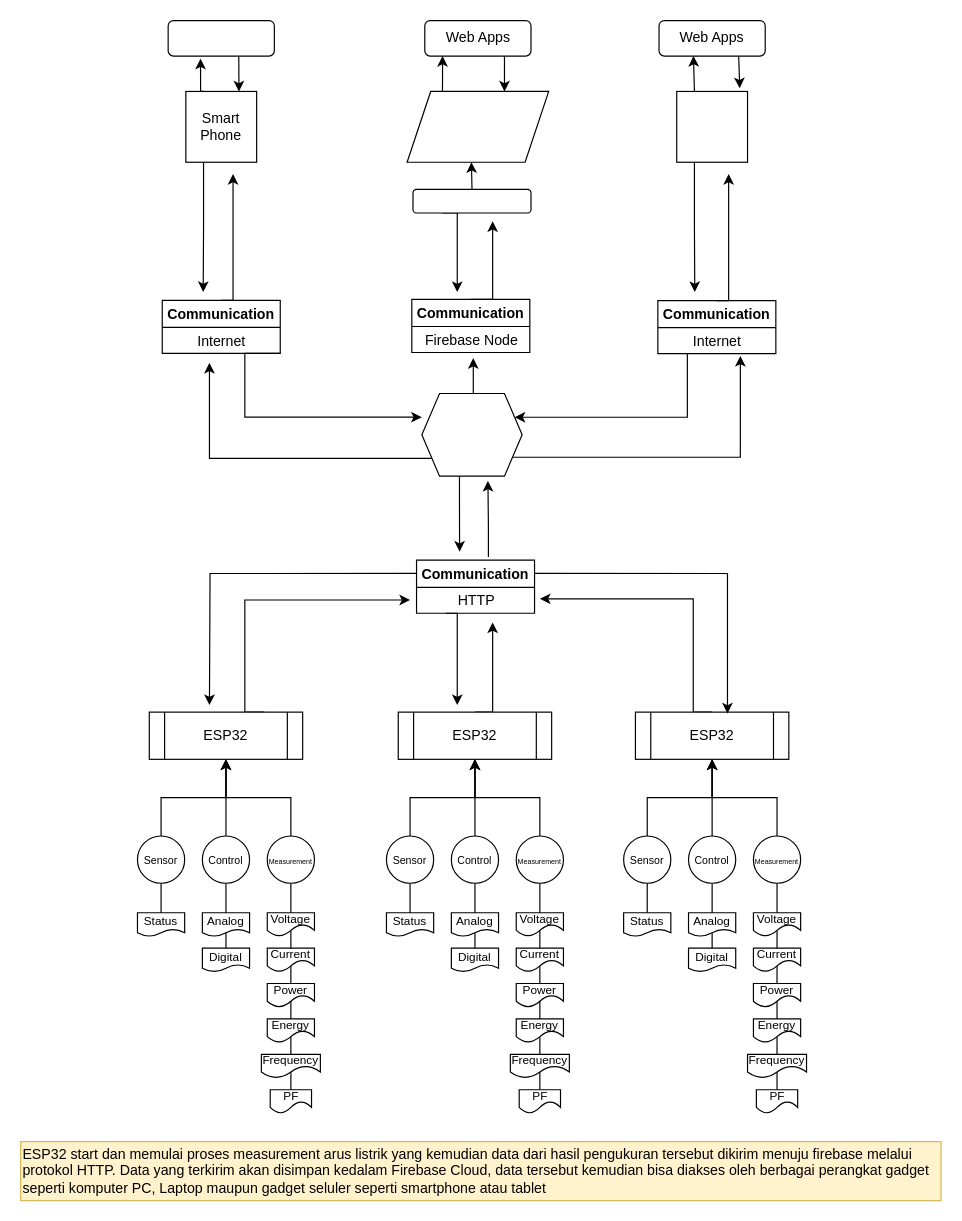
The diagram is 962 pixels wide and 1221 high, and some of its shapes have lost their labels. The box of each missing label's shape, as (x1, y1, x2, y2) in pixels:
Firebase: (421, 392, 522, 476)
Mobile Apps: (167, 19, 274, 56)
Node-Red: (412, 188, 531, 213)
PC: (676, 90, 748, 162)
Raspberry Pi: (406, 90, 549, 162)
